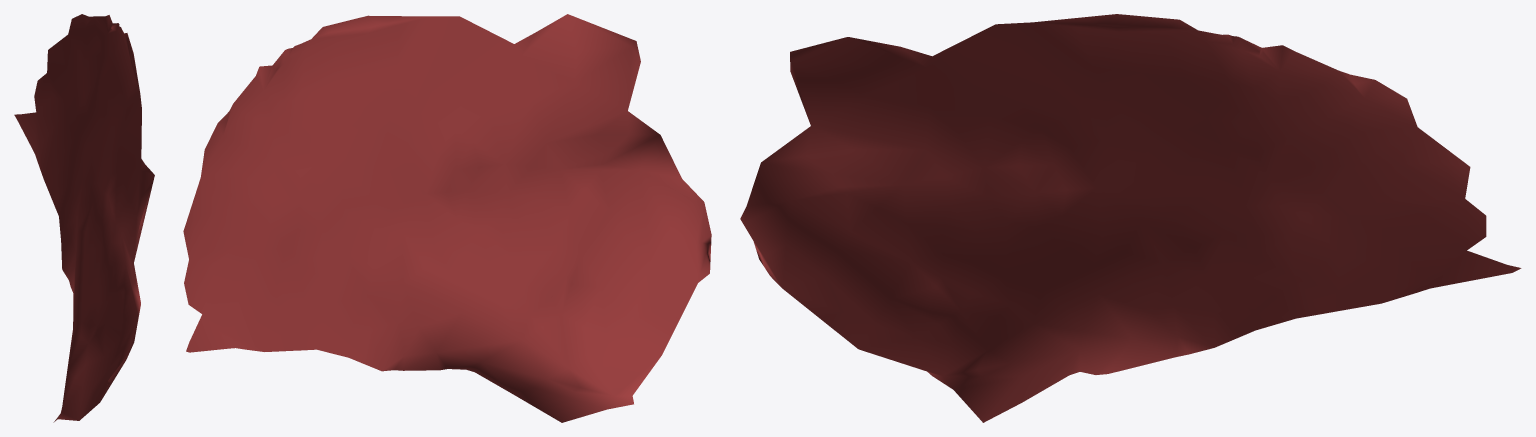
File: temporalis-muscle-o4l.glb
3 views of the same model, side by side, from view 1: azimuth 30°, elevation 25°; view 2: azimuth 150°, elevation 25°; view 3: azimuth 270°, elevation 25° (orthographic). The views are drawn at different scales.
Parts seen in each view (by area): view 1: Temporalis muscle.o4l; view 2: Temporalis muscle.o4l; view 3: Temporalis muscle.o4l.
Boxes of the visible parts, x1,y1,x2,y2 form: Temporalis muscle.o4l: (14, 14, 154, 422); Temporalis muscle.o4l: (183, 14, 711, 422); Temporalis muscle.o4l: (740, 14, 1521, 422).
Bounding box in the file's own units: 0.026 × 0.0443 × 0.0637.
